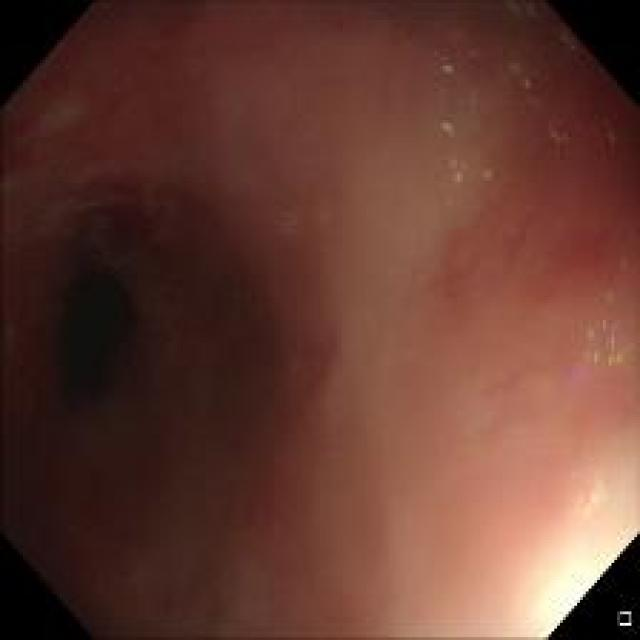color misalignment: (572, 280, 630, 374), (431, 119, 490, 189), (574, 471, 609, 518), (552, 21, 581, 55), (538, 120, 571, 146), (436, 51, 459, 81)
contrast: (29, 185, 245, 541)
saturation: (535, 530, 614, 622)
